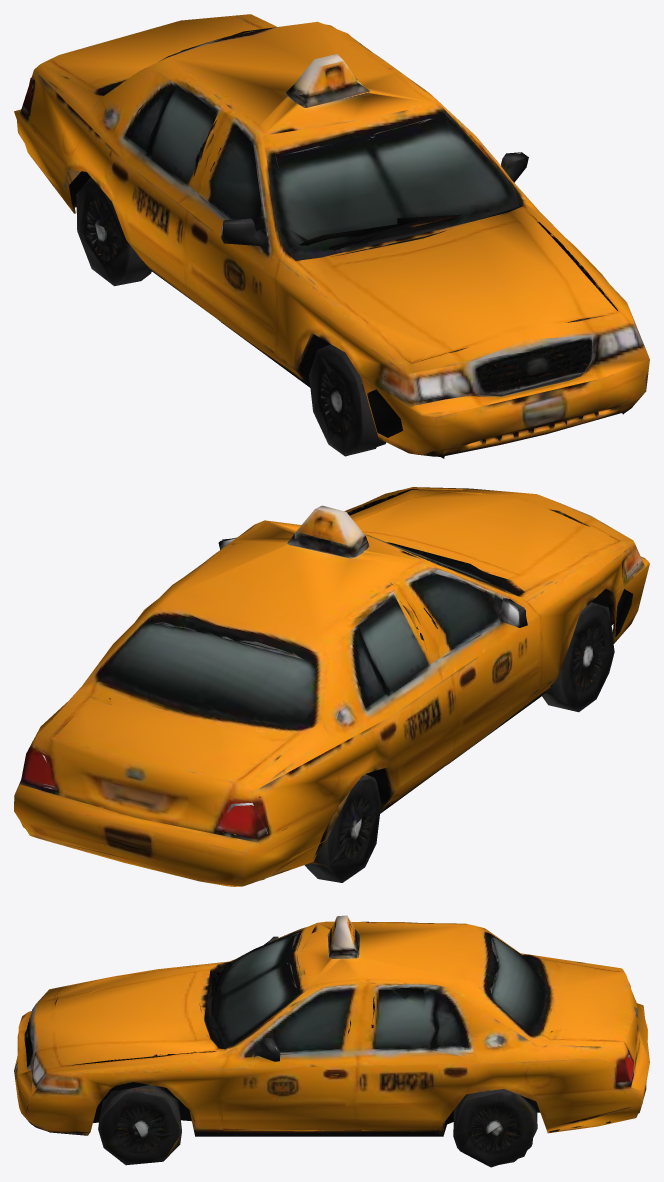
File: car_taxi.glb
The picture shows the model from 3 angles, top to bottom: view 1: azimuth 30°, elevation 25°; view 2: azimuth 150°, elevation 25°; view 3: azimuth 270°, elevation 25°; orthographic projection. The views are drawn at different scales.
Visible parts, largest first — view 1: world; view 2: world; view 3: world.
Boxes of the visible parts, left/top/right/bottom form: world: left=14, top=14, right=649, bottom=458; world: left=14, top=487, right=649, bottom=886; world: left=14, top=915, right=649, bottom=1167.
Bounding box in the file's own units: 0.4188 × 0.3492 × 0.9951.
1 material, 1 textured.
